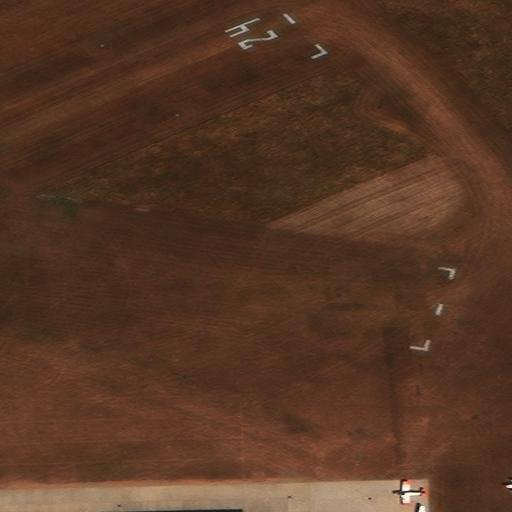Small Civil Transport: (394, 480, 425, 504)
